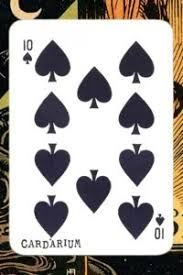ten of spades: (8, 20, 173, 254)
